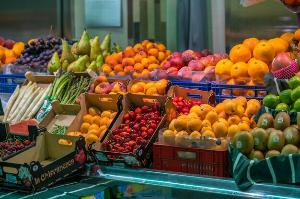apricot: (101, 38, 171, 80)
grape: (13, 31, 59, 77)
kiwi: (241, 104, 294, 164)
lime: (258, 74, 300, 118)
orange: (215, 28, 300, 88)
peach: (156, 43, 222, 82)
pear: (50, 32, 116, 80)
plum: (162, 92, 260, 152), (67, 96, 121, 148)
